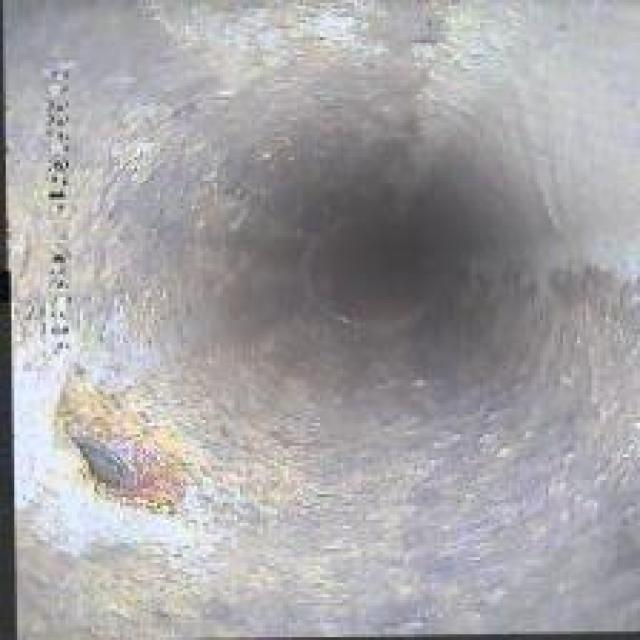ferrule: (57, 394, 157, 512)
